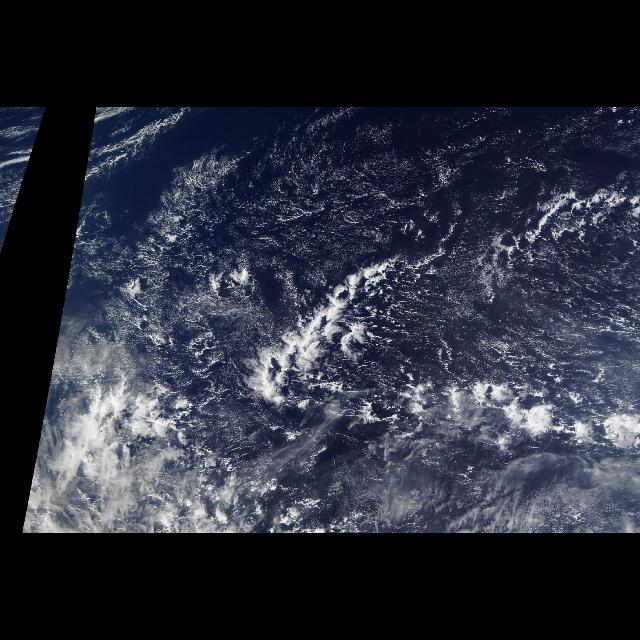Fish: (208, 232, 614, 414)
Sugar: (92, 112, 636, 398)
